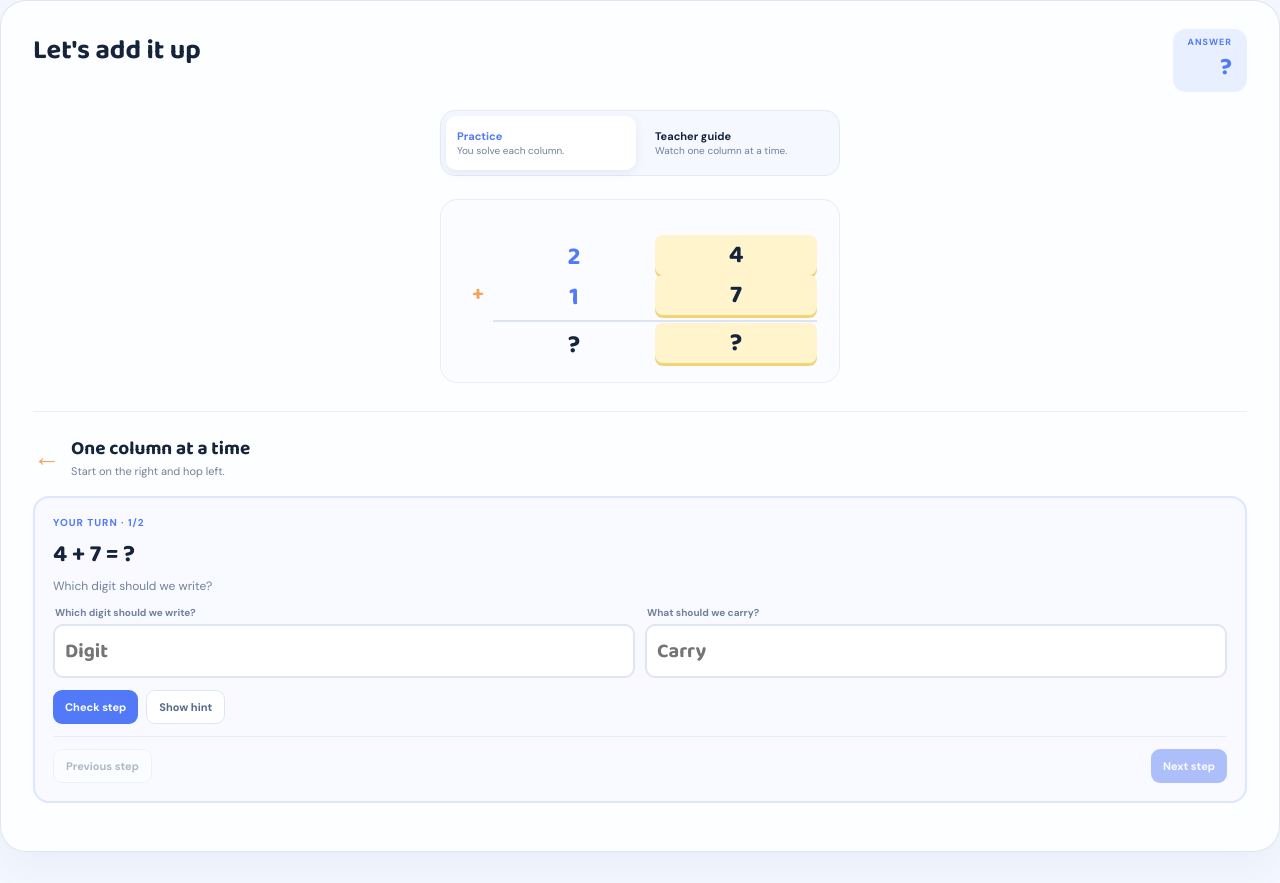
Test: ResultPanel guided flow › accepts a correct answer and advances to the next column
Step 1. Type "1" into the field labelled "Which digit should we write?" → (344, 651), box [53,624,635,678]
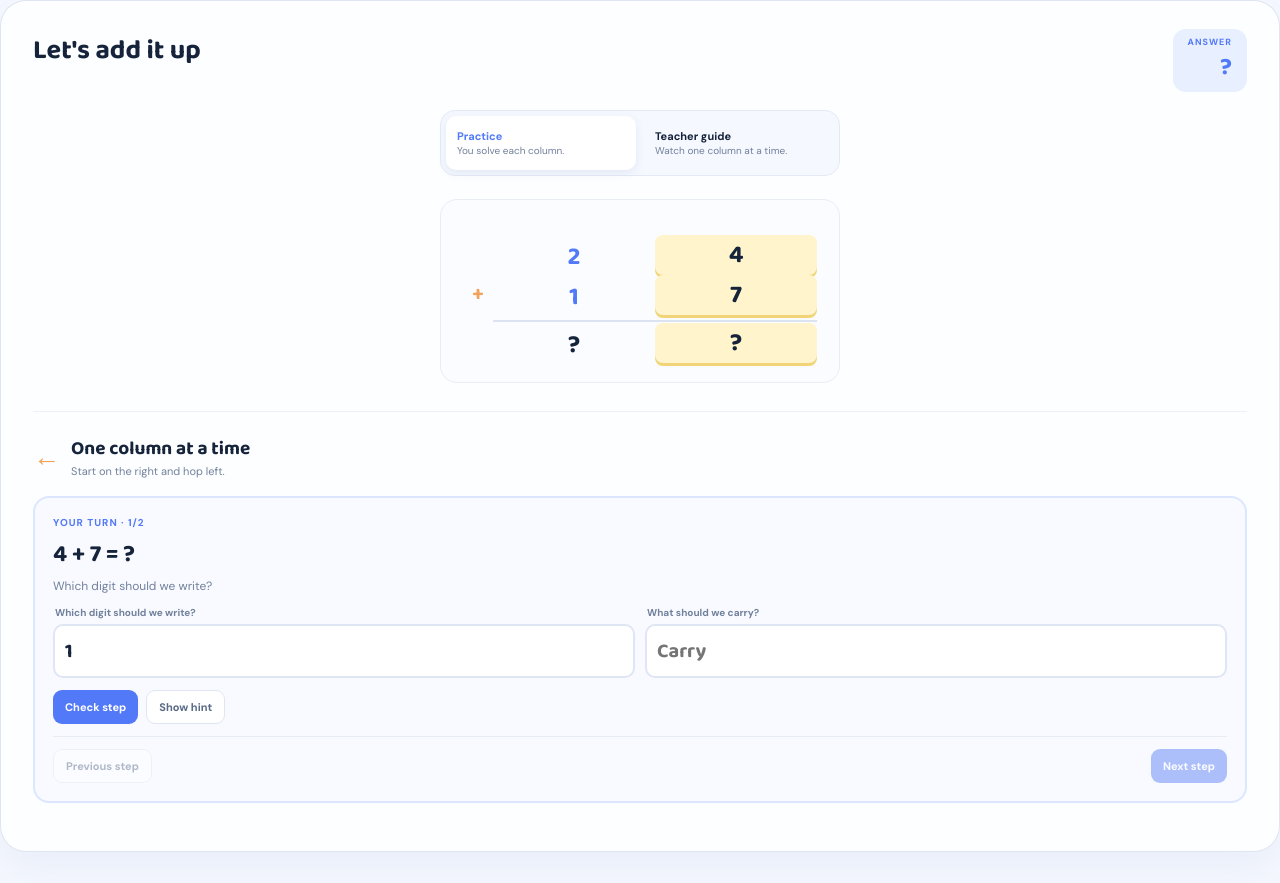
Step 2. Type "1" into the field labelled "What should we carry?" → (936, 651), box [645,624,1227,678]
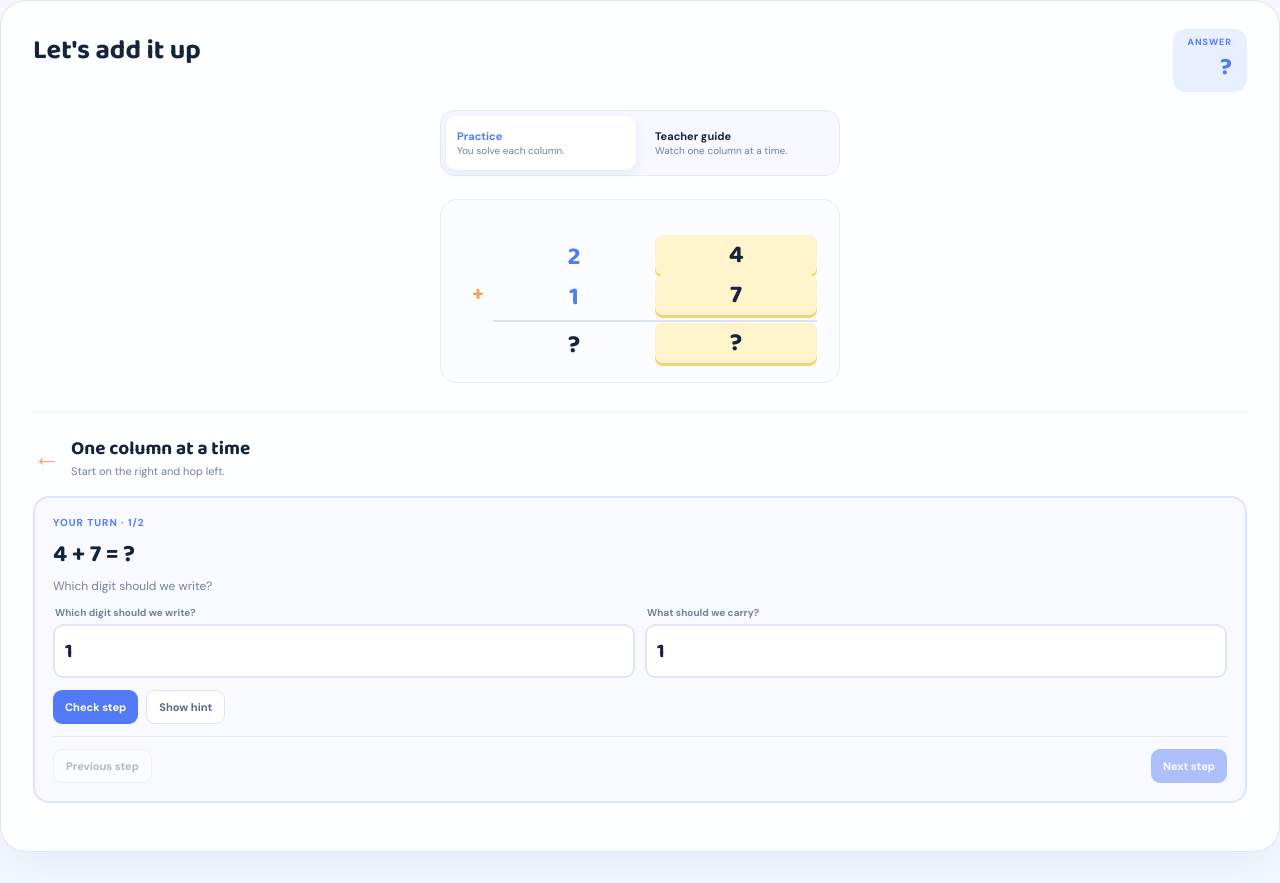
Step 3. Click the button "Check step" → (96, 707), box [53,690,138,724]
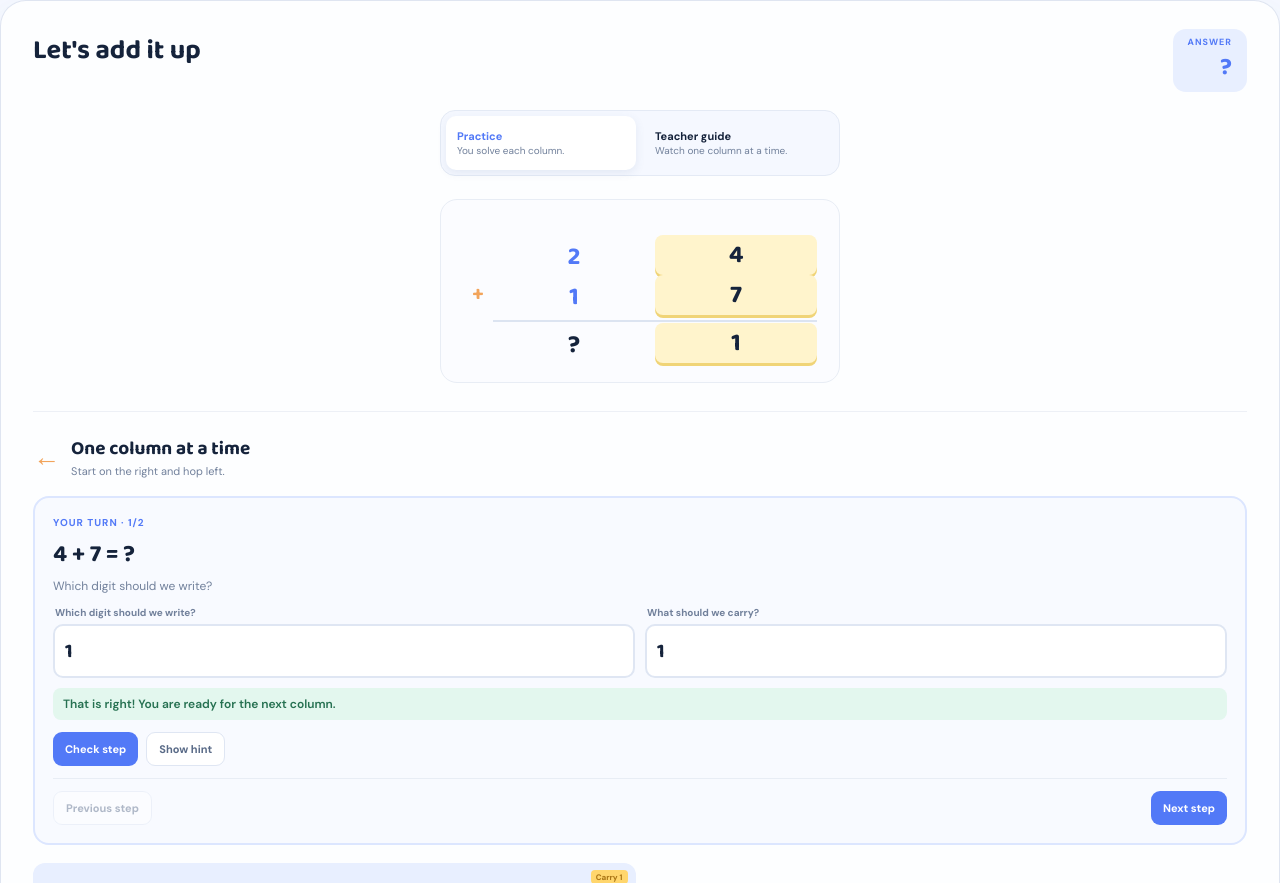
Now the text "That is right! You are ready for the next column." is shown, box [53,688,1227,720]
Step 4. Click the button "Next step" → (1189, 808), box [1151,791,1227,825]
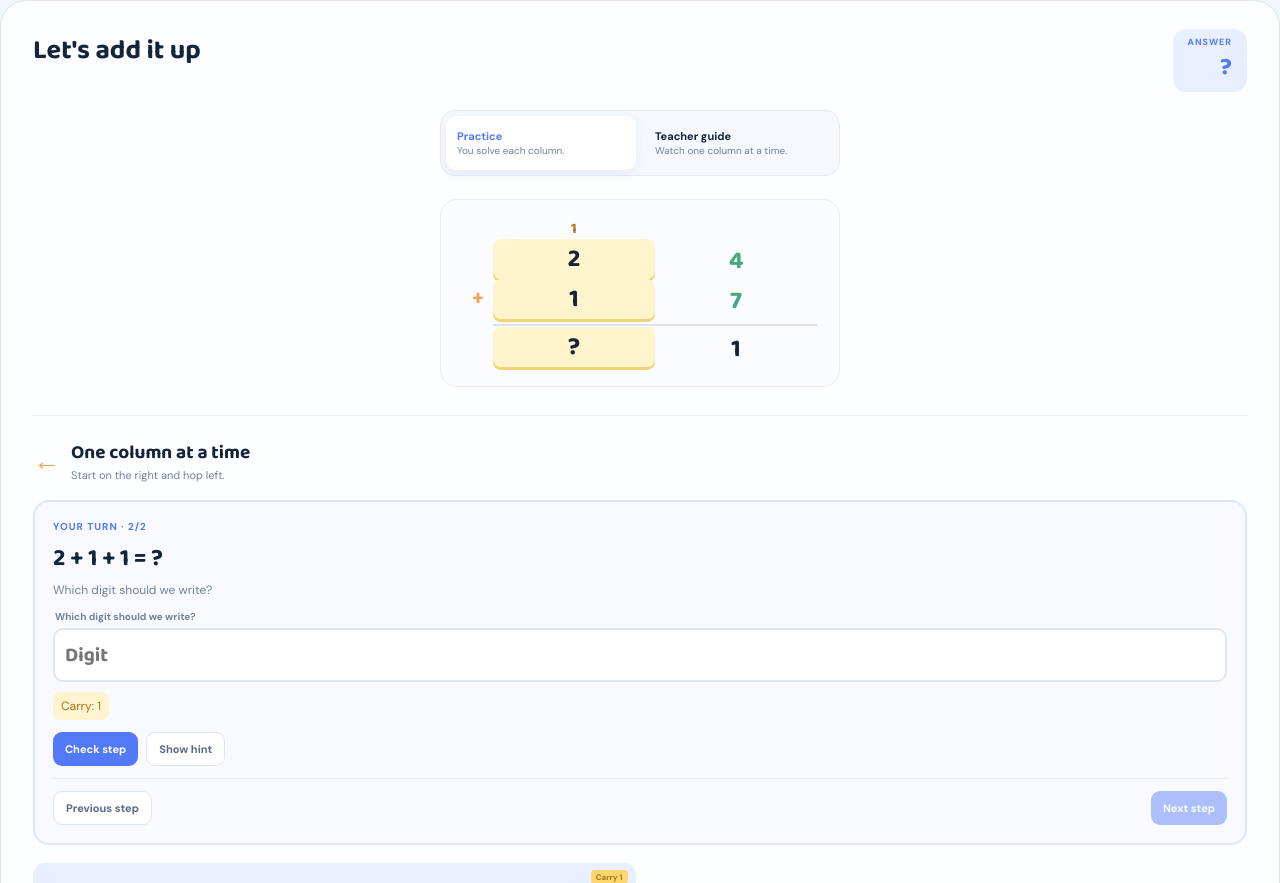
Now the heading "2 + 1 + 1 = ?" is shown, box [53,539,163,578]
